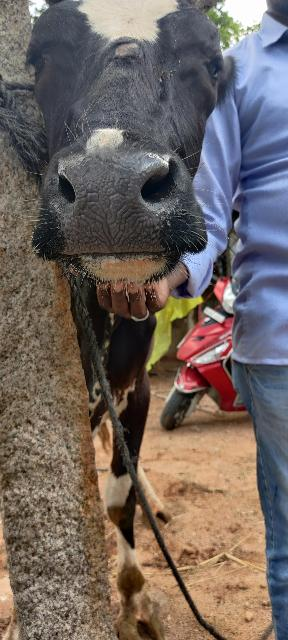Muzzle: (60, 163, 164, 251)
